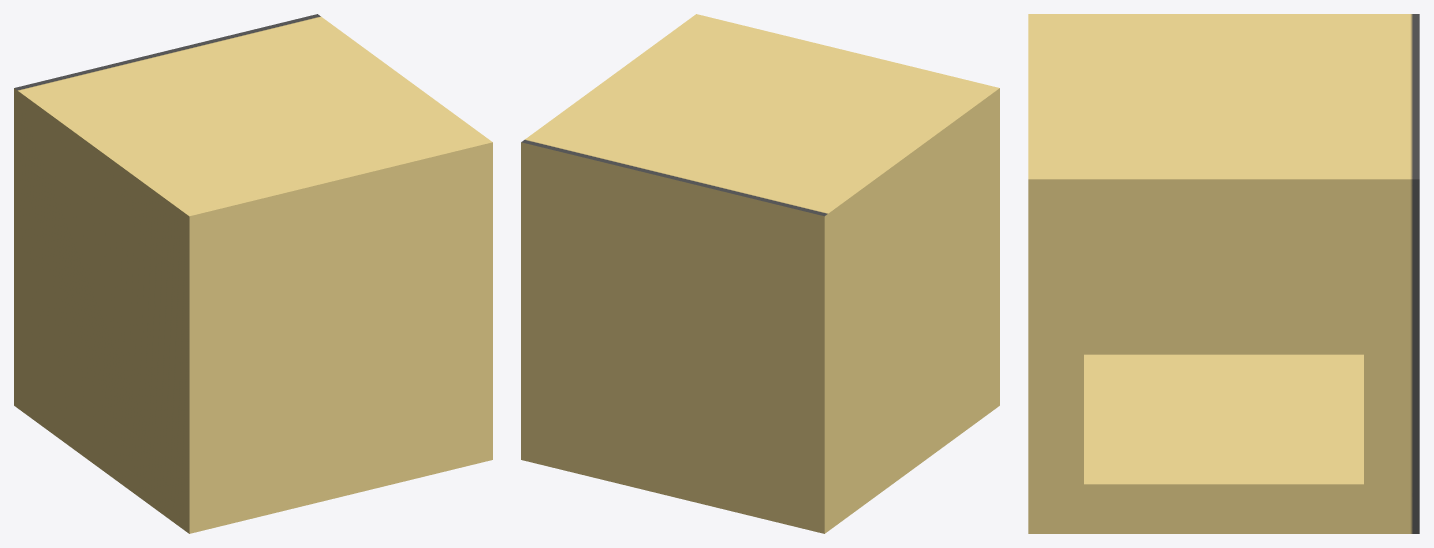
The model's file is tansu-sotogawa.fbx.
3 renders of one model, left to right at view 1: azimuth 30°, elevation 25°; view 2: azimuth 150°, elevation 25°; view 3: azimuth 270°, elevation 25°, orthographic. The views are drawn at different scales.
Visible parts, largest first — view 1: 立方体.005; view 2: 立方体.005; view 3: 立方体.005.
Boxes of the visible parts, bbox=[...] form: 立方体.005: bbox=[14, 14, 492, 533]; 立方体.005: bbox=[521, 14, 999, 533]; 立方体.005: bbox=[1028, 14, 1419, 533].
Size of the model in its own units: 534 by 534 by 534.
